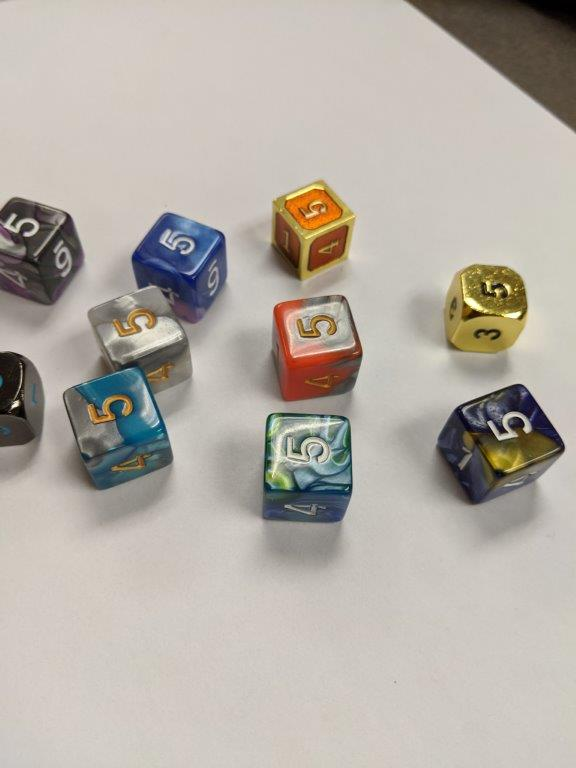d6-5: (438, 381, 565, 505), (62, 368, 178, 490), (87, 286, 200, 394), (134, 208, 229, 332), (261, 409, 354, 526), (272, 293, 364, 399), (1, 195, 84, 305), (272, 179, 355, 272), (445, 263, 527, 356)
